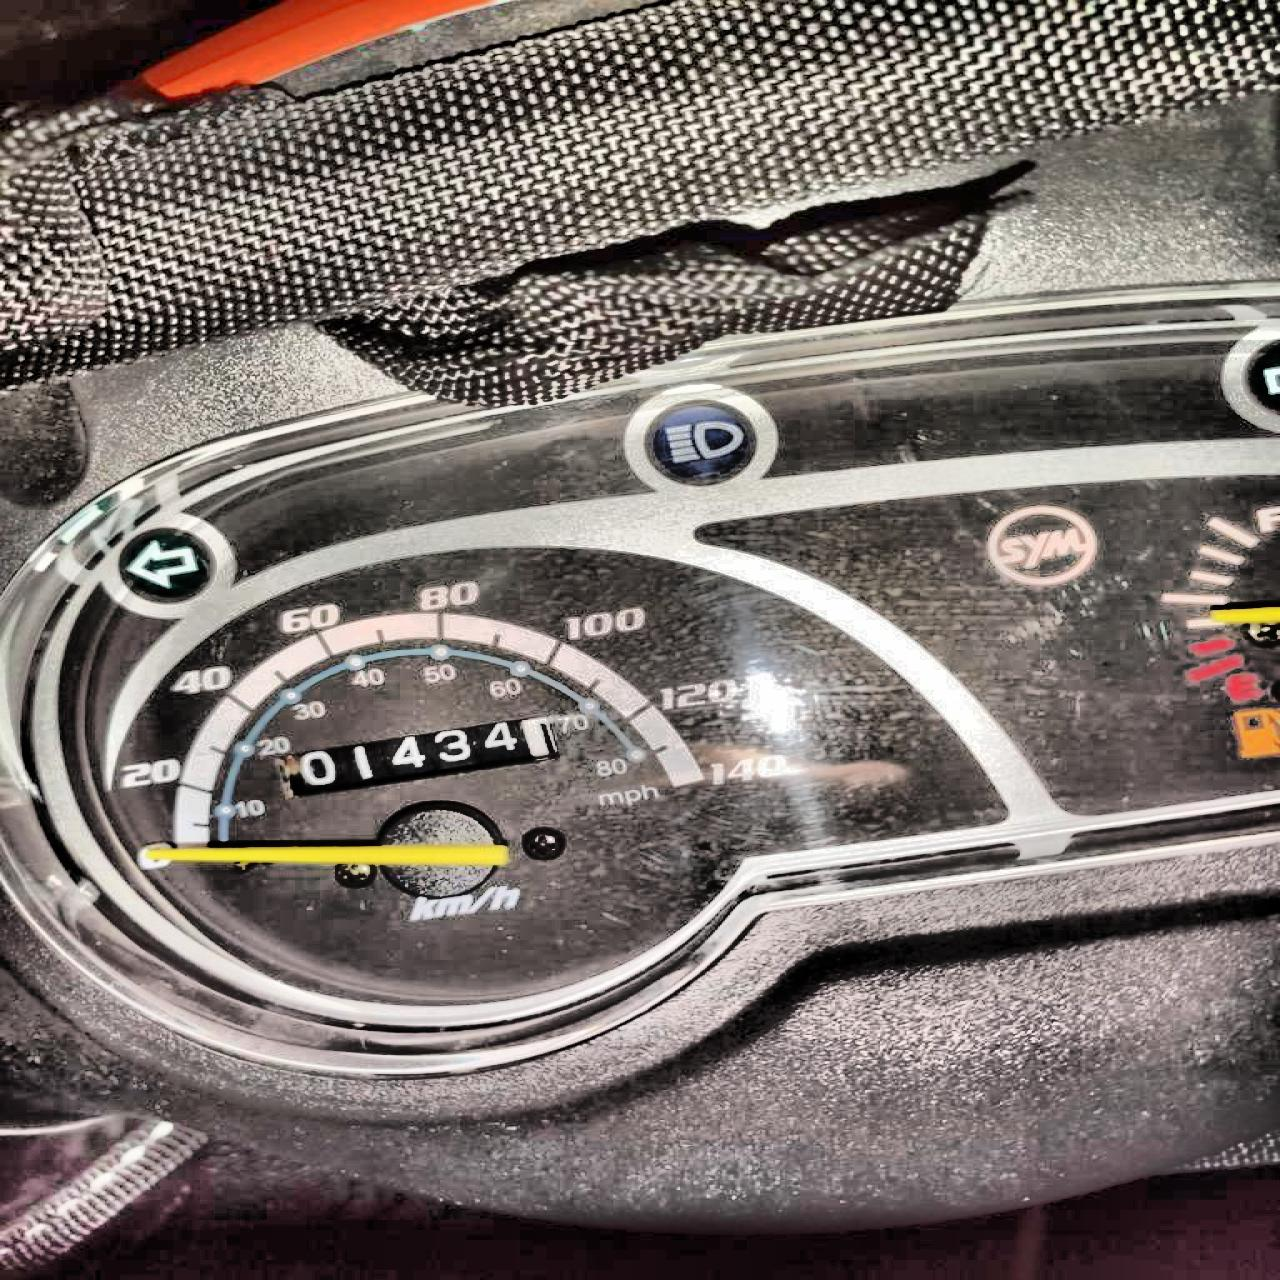0: (298, 750, 335, 785), (273, 736, 288, 753)
1: (352, 745, 372, 779), (537, 721, 553, 754)
3: (431, 729, 468, 760)
4: (390, 735, 425, 765), (482, 721, 517, 750)
odometer: (274, 716, 558, 799)
